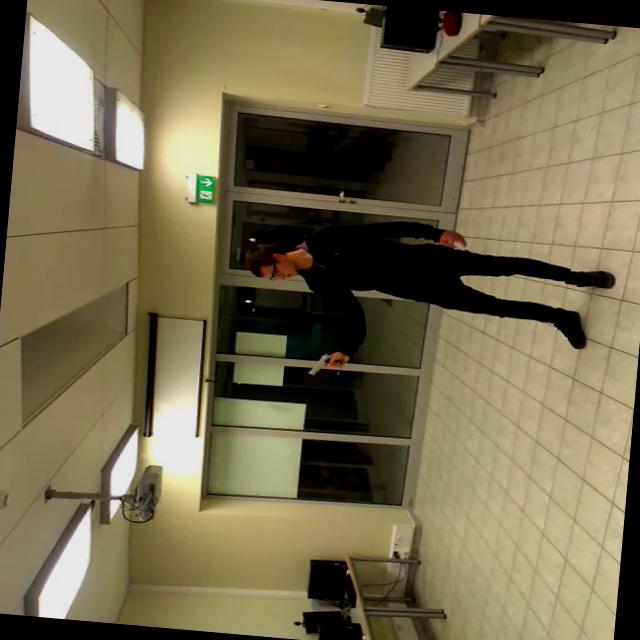handgun: (296, 338, 354, 388)
